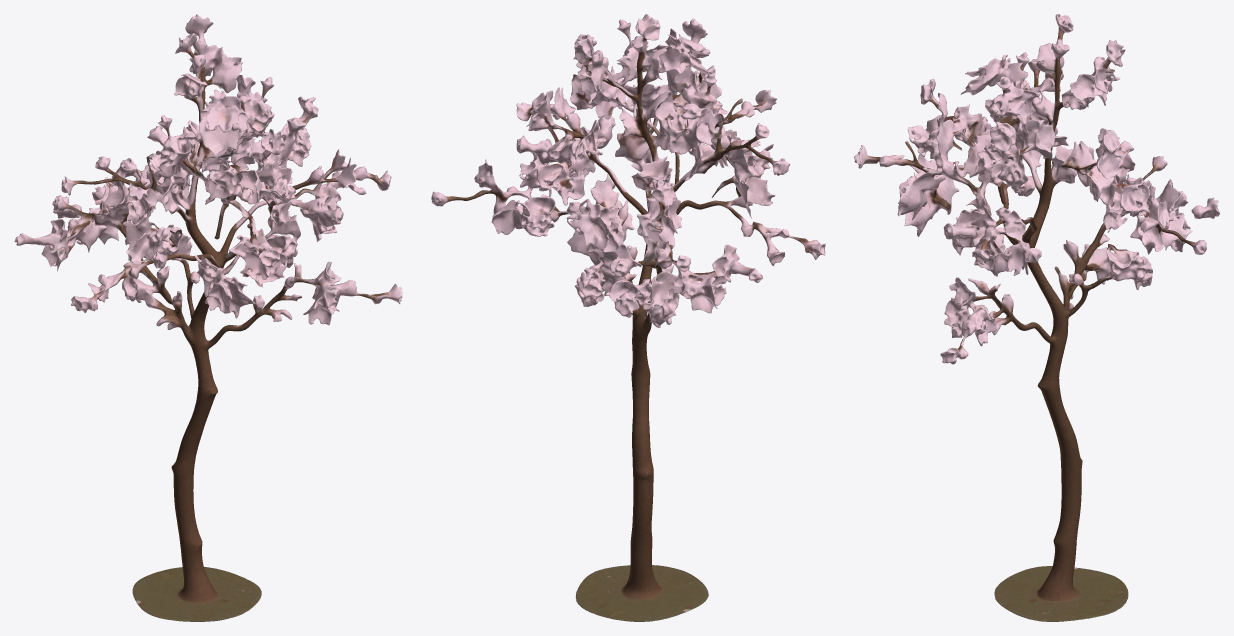
Rendered from sakura_small.glb.
3 renders of one model, left to right at view 1: azimuth 30°, elevation 25°; view 2: azimuth 150°, elevation 25°; view 3: azimuth 270°, elevation 25°, orthographic. The views are drawn at different scales.
Parts seen in each view (by area): view 1: mesh_node; view 2: mesh_node; view 3: mesh_node.
Boxes of the visible parts, x1,y1,x2,y2 form: mesh_node: (14, 14, 402, 621); mesh_node: (431, 14, 825, 621); mesh_node: (854, 14, 1219, 621).
Size of the model in its own units: 1.09 by 1.9 by 1.09.
1 material, 1 textured.
